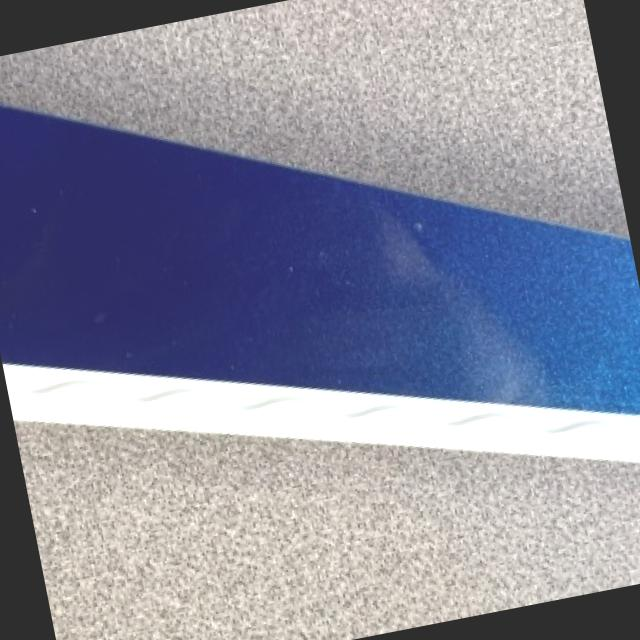healthy: (18, 422, 640, 613)
